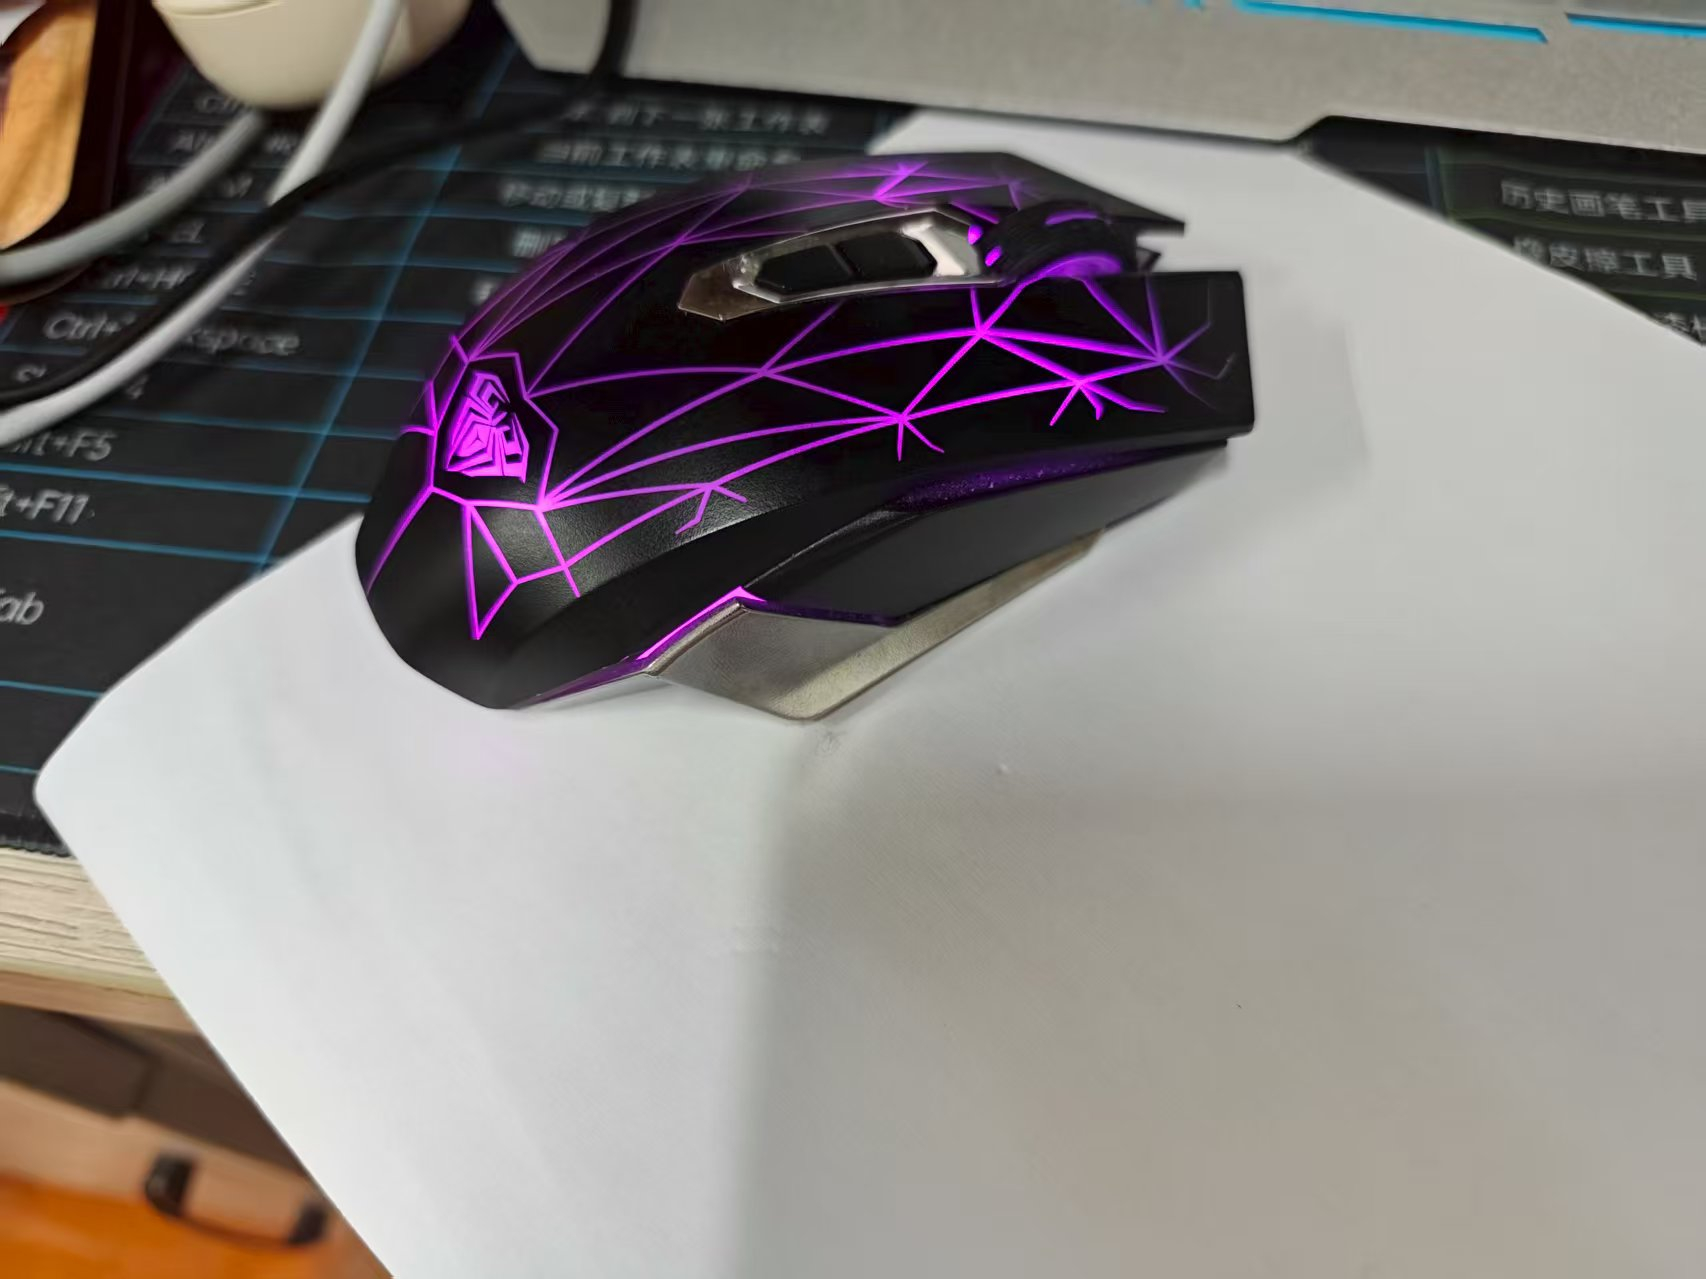mouse: (363, 141, 1254, 751)
